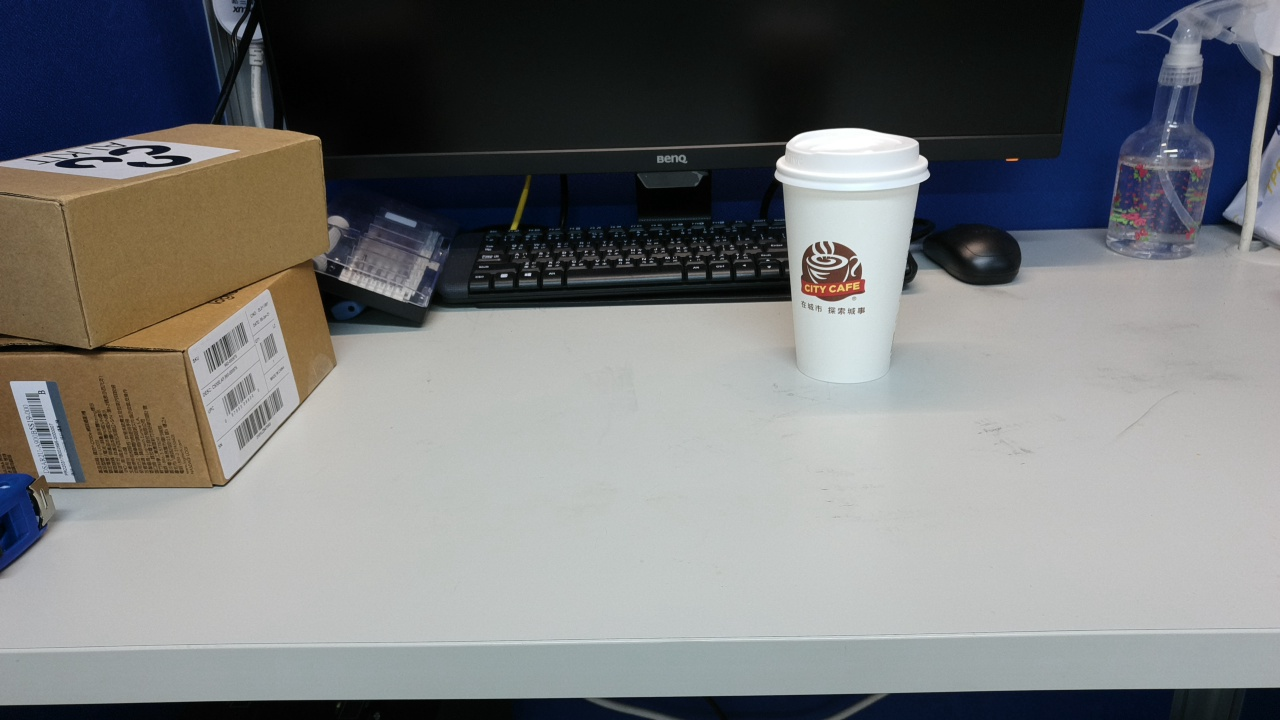long: (1068, 484, 1232, 709)
